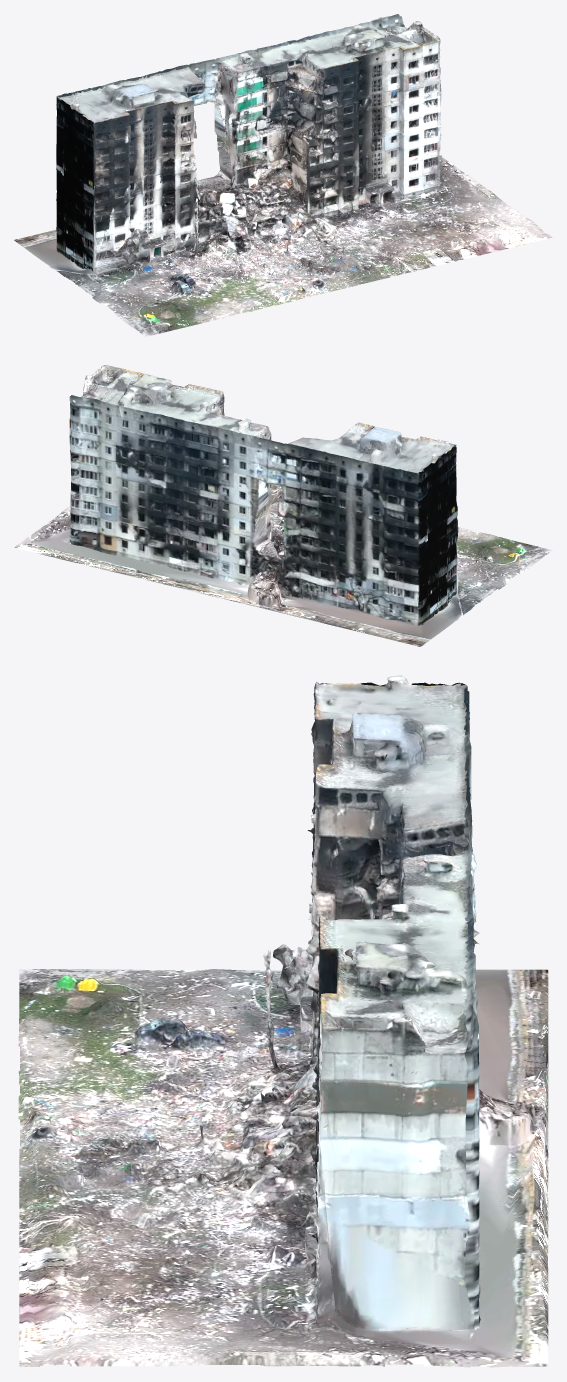
File: ukraine-apartment.glb
3 views of the same model, one above another, from view 1: azimuth 30°, elevation 25°; view 2: azimuth 150°, elevation 25°; view 3: azimuth 270°, elevation 25° (orthographic). The views are drawn at different scales.
Visible parts, largest first — view 1: Object_2; view 2: Object_2; view 3: Object_2.
Part boxes in pixels (<box>): Object_2: <box>14,14,552,336</box>; Object_2: <box>14,365,552,646</box>; Object_2: <box>18,675,548,1367</box>.
Size of the model in its own units: 41.8 by 16 by 23.5.
1 material, 1 textured.
